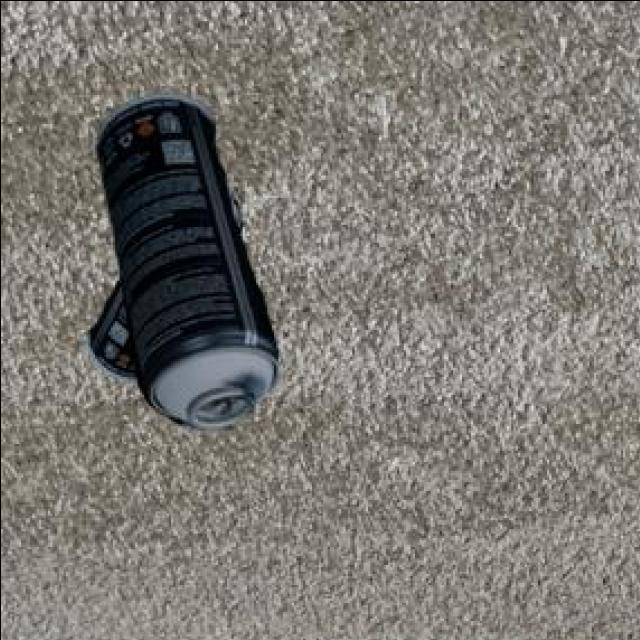logam: (93, 97, 274, 433), (82, 191, 238, 384)
